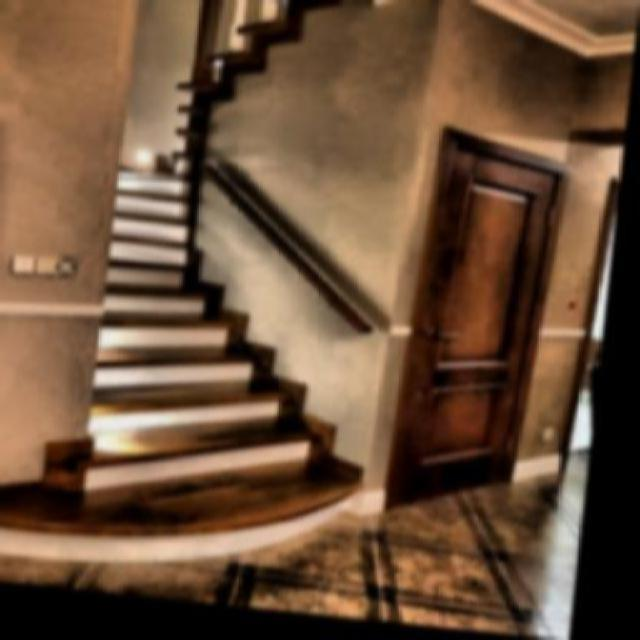stair: (31, 177, 383, 508)
